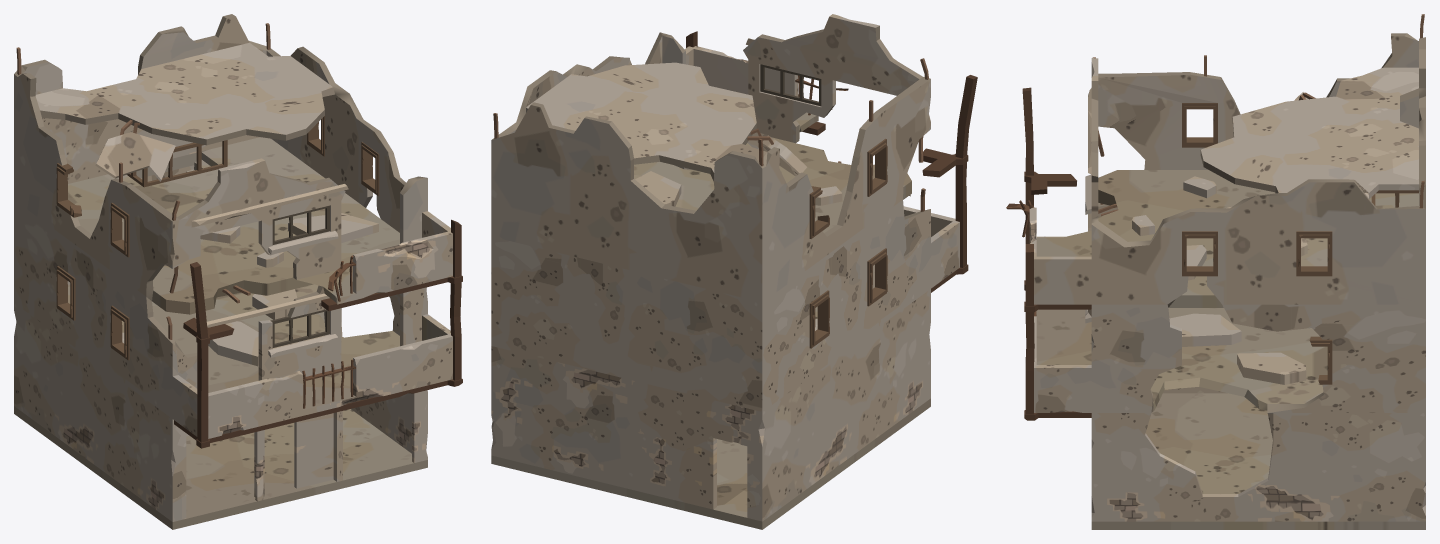
Rendered from SM_Bld_Shop_04_Destroyed.fbx.
3 renders of one model, left to right at view 1: azimuth 30°, elevation 25°; view 2: azimuth 150°, elevation 25°; view 3: azimuth 270°, elevation 25°, orthographic. The views are drawn at different scales.
Visible parts, largest first — view 1: SM_Bld_Shop_04_Destroyed; view 2: SM_Bld_Shop_04_Destroyed; view 3: SM_Bld_Shop_04_Destroyed.
Boxes of the visible parts, x1,y1,x2,y2 form: SM_Bld_Shop_04_Destroyed: (14,14,462,529); SM_Bld_Shop_04_Destroyed: (491,14,977,529); SM_Bld_Shop_04_Destroyed: (1006,14,1425,529).
Size of the model in its own units: 948 by 1229 by 1212.
